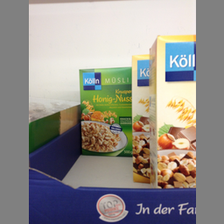cereal: (149, 35, 196, 189), (78, 67, 132, 158)
